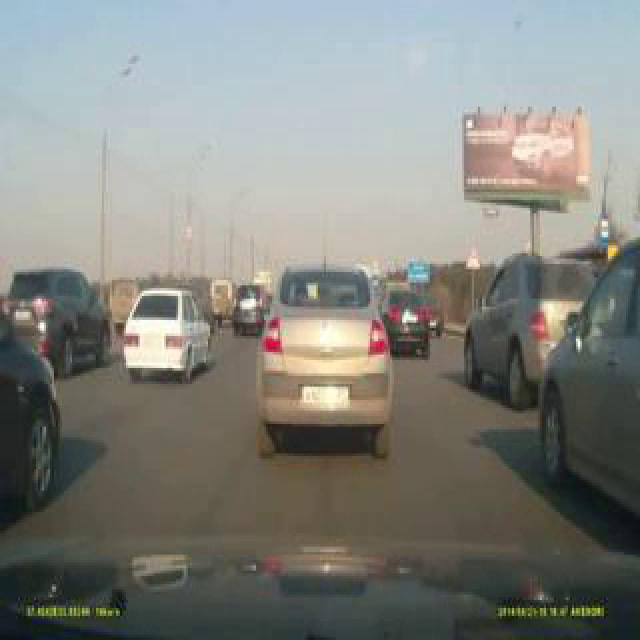explosion: (266, 129, 479, 640)
